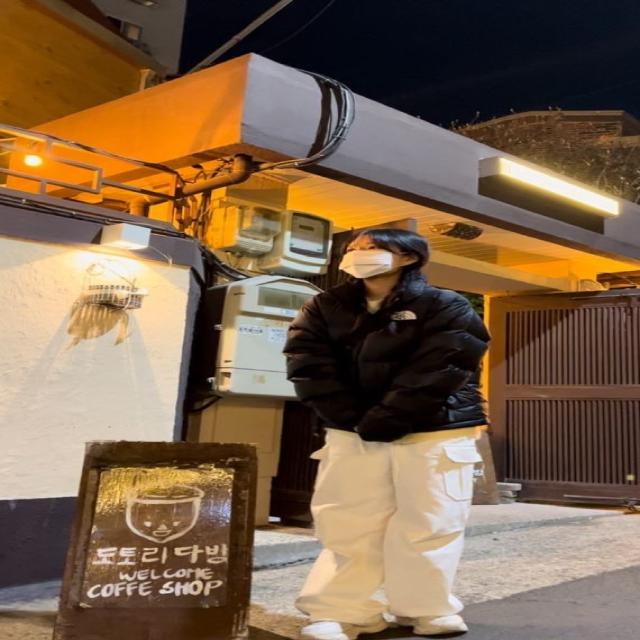cottonpants: (297, 424, 483, 623)
padding: (288, 284, 496, 441)
